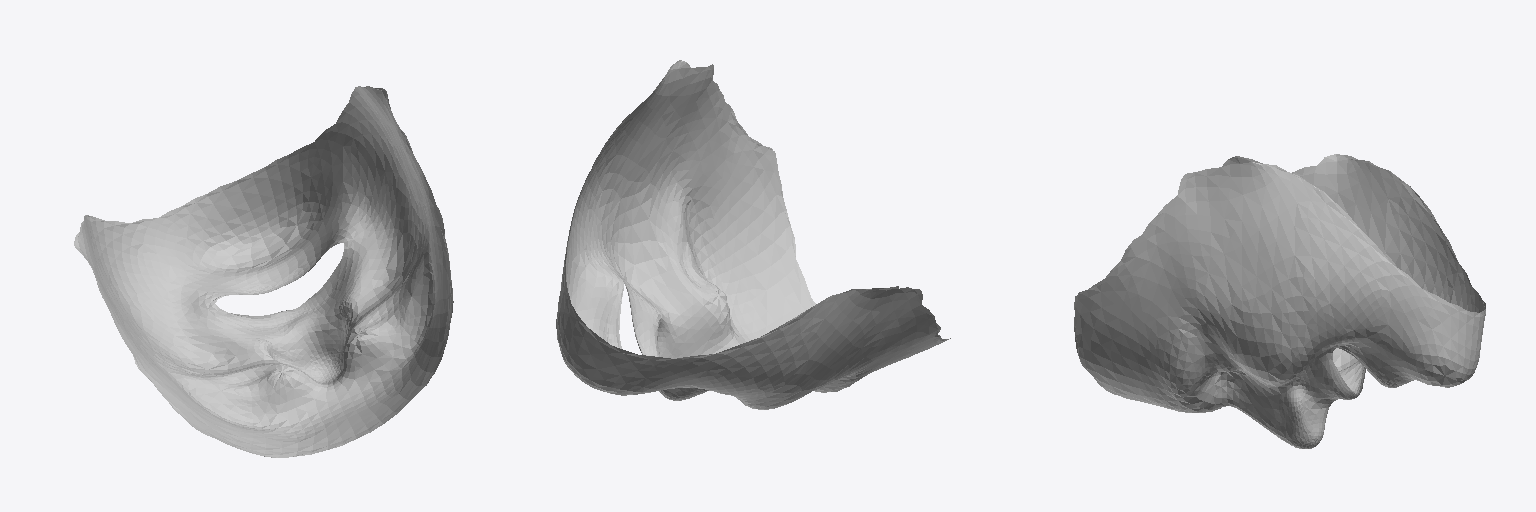
The model's file is face_gab_sfm97.obj.
3 views of the same model, side by side, from view 1: azimuth 30°, elevation 25°; view 2: azimuth 150°, elevation 25°; view 3: azimuth 270°, elevation 25° (orthographic).
Bounding box in the file's own units: 171 × 161 × 196.